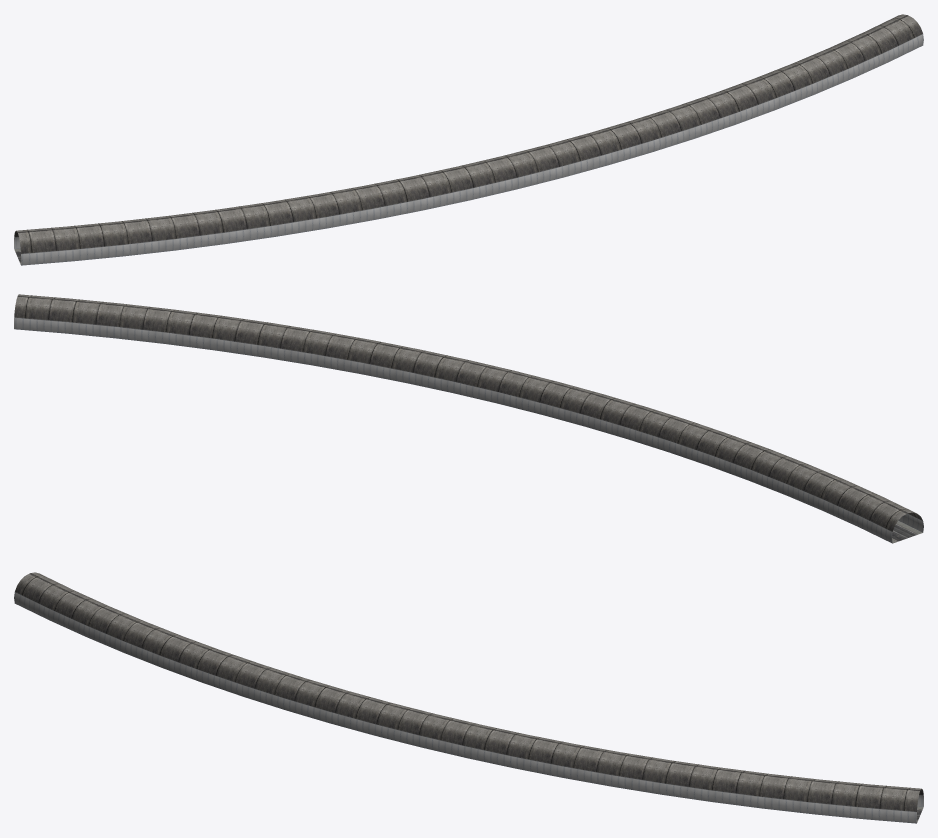
Rendered from Tunnel 1.fbx.
3 renders of one model, top to bottom at view 1: azimuth 30°, elevation 25°; view 2: azimuth 150°, elevation 25°; view 3: azimuth 330°, elevation 25°, orthographic.
Visible parts, largest first — view 1: tunnel_2; view 2: tunnel_2; view 3: tunnel_2.
Boxes of the visible parts, <box> form: tunnel_2: <box>14,14,923,265</box>; tunnel_2: <box>14,294,923,543</box>; tunnel_2: <box>14,572,923,823</box>.
Bounding box in the file's own units: 497 × 13.09 × 62.59.
Materials: 1 (1 with a texture image).
